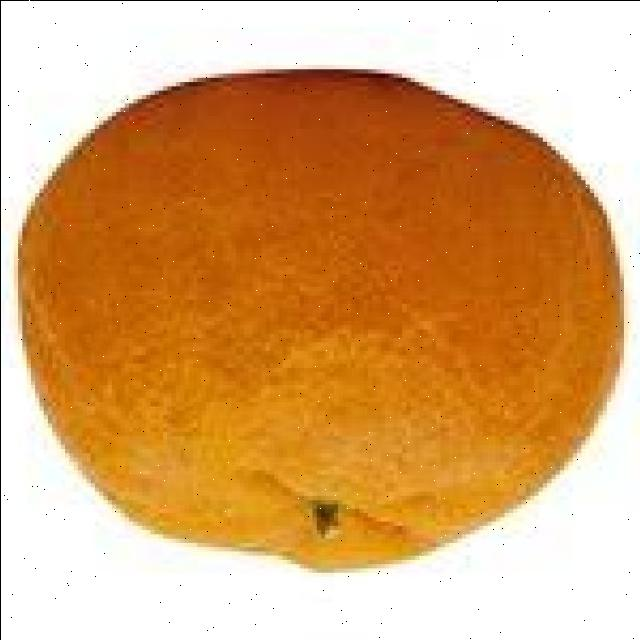Orange: (16, 68, 625, 575)
